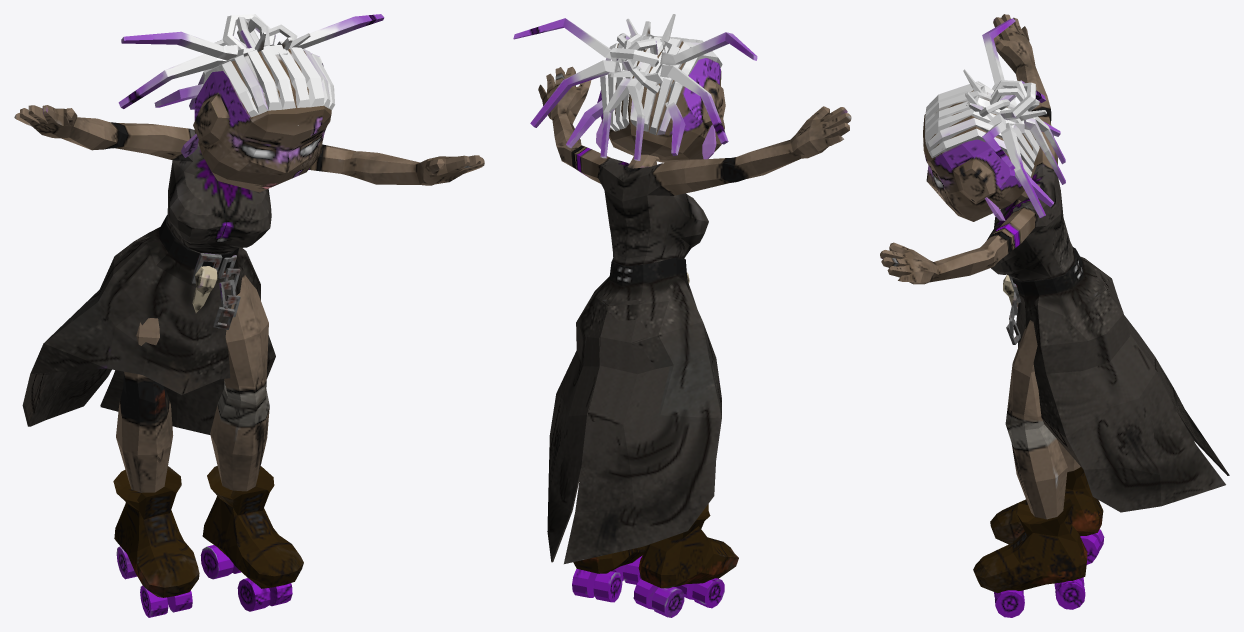
The model's file is bruja_000168.obj.
The picture shows the model from 3 angles, left to right: view 1: azimuth 30°, elevation 25°; view 2: azimuth 150°, elevation 25°; view 3: azimuth 270°, elevation 25°; orthographic projection. The views are drawn at different scales.
Parts seen in each view (by area): view 1: Bruja_Plane.001; view 2: Bruja_Plane.001; view 3: Bruja_Plane.001.
Boxes of the visible parts, x1,y1,x2,y2 form: Bruja_Plane.001: (14, 14, 484, 617); Bruja_Plane.001: (513, 14, 851, 617); Bruja_Plane.001: (880, 14, 1229, 617).
Bounding box in the file's own units: 11.28 × 16.38 × 9.7.
